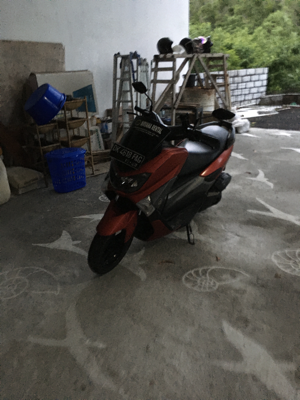moto: (88, 96, 230, 276)
